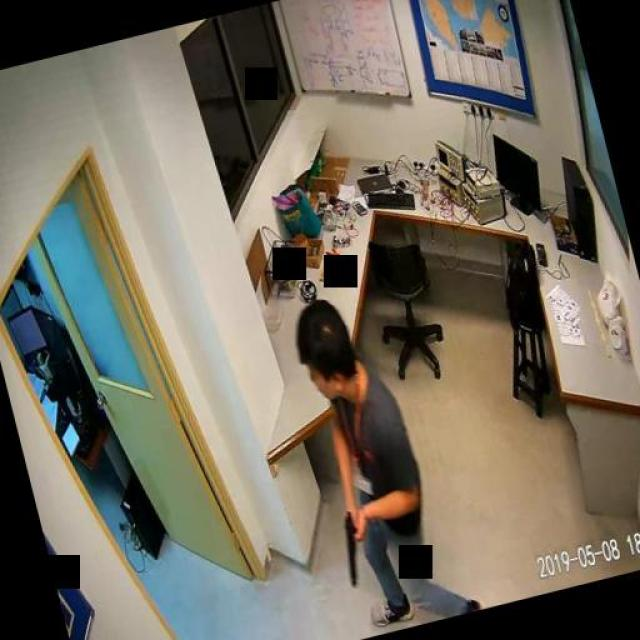gun: (332, 508, 368, 588)
